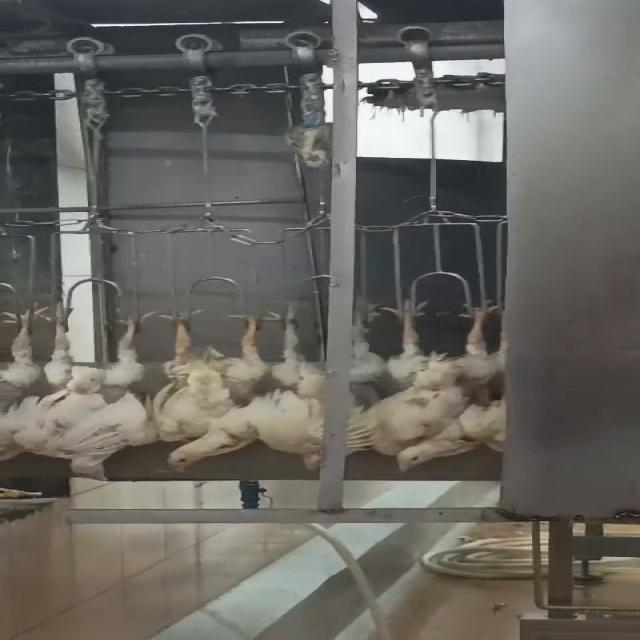chicken: (254, 293, 379, 477), (379, 290, 501, 478), (32, 302, 157, 484), (140, 302, 270, 476), (0, 301, 48, 467)
